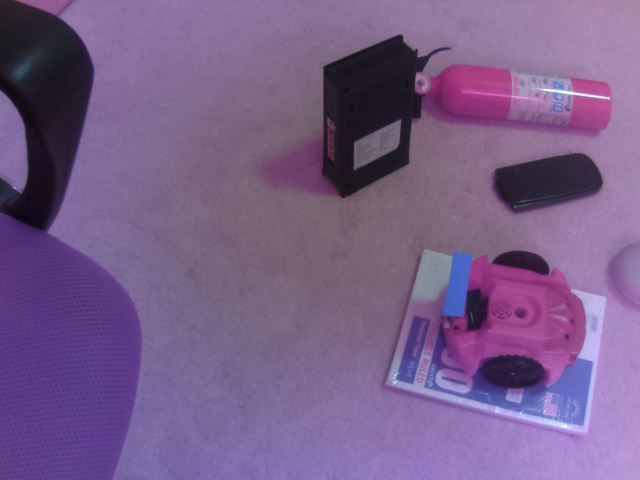board: (439, 246, 473, 327)
chassis: (436, 248, 592, 391)
